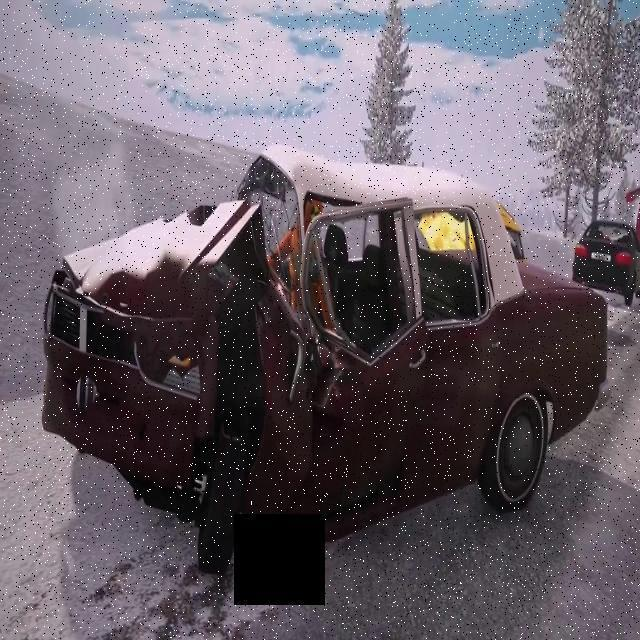vehicle: (24, 132, 627, 560)
